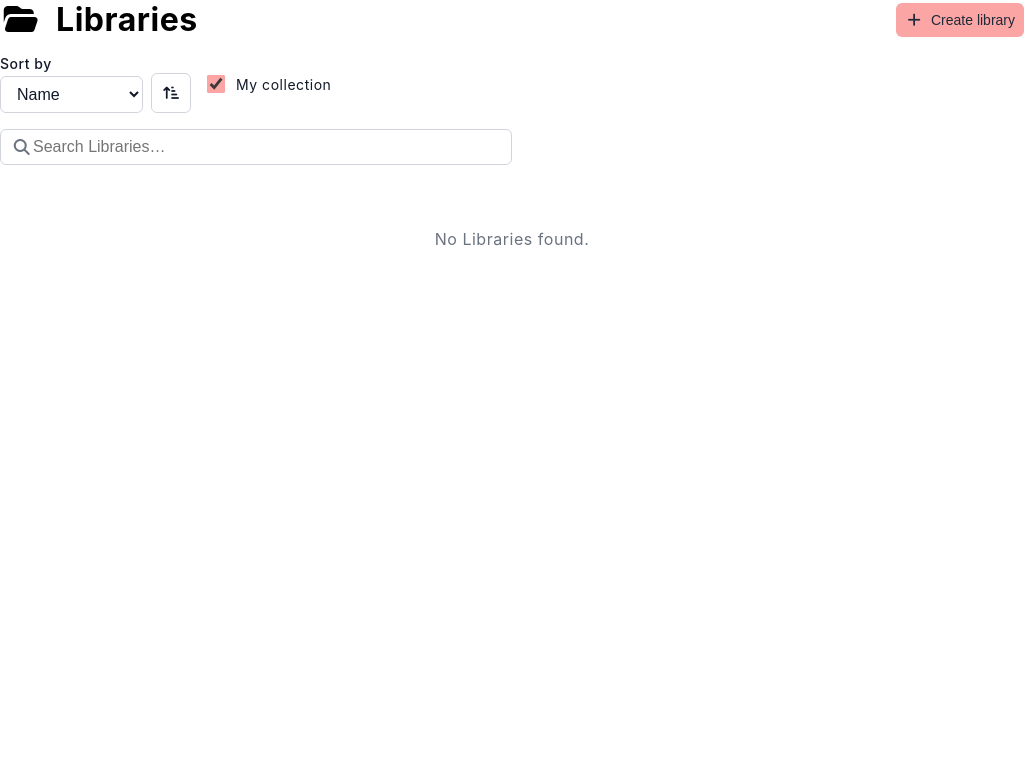
Test case: LibraryView › surfaces creation errors in the modal
Step 1. Click the button "Create library" → coordinates (960, 20), box [896,2,1023,36]
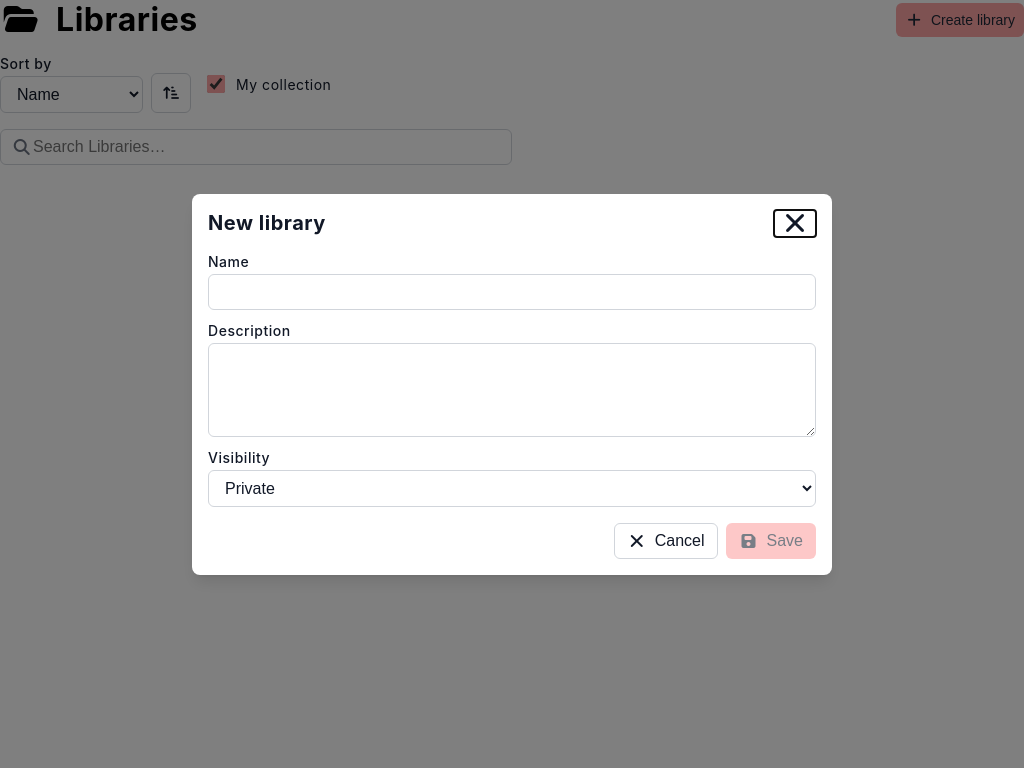
Step 2. Type "Main Library" into the field labelled "Name" → coordinates (512, 292), box [208,274,816,310]
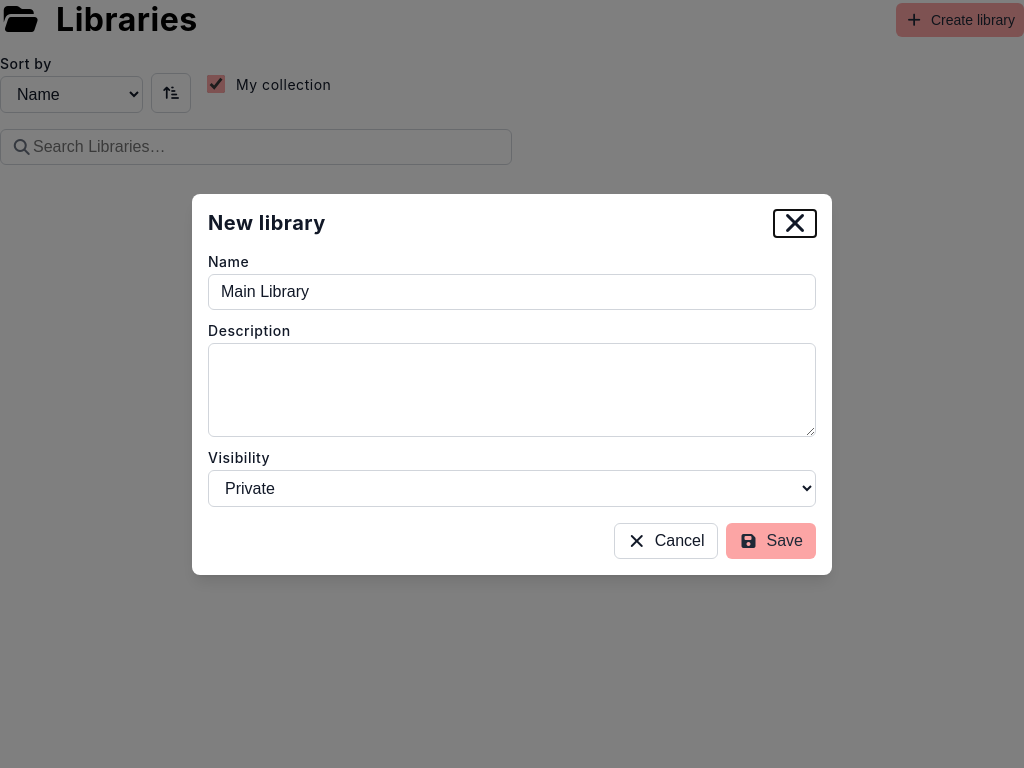
Step 3. Click the button "Save" → coordinates (771, 540), box [726,522,816,558]
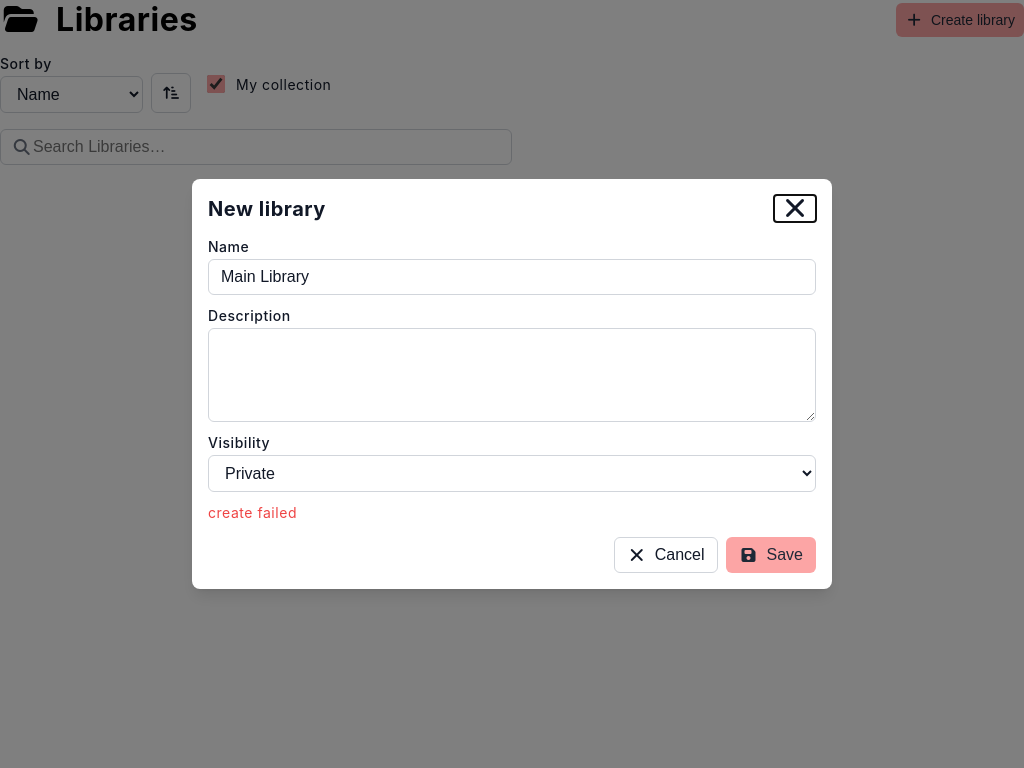
Check: the text "create failed" is shown, box [208,504,297,521]
